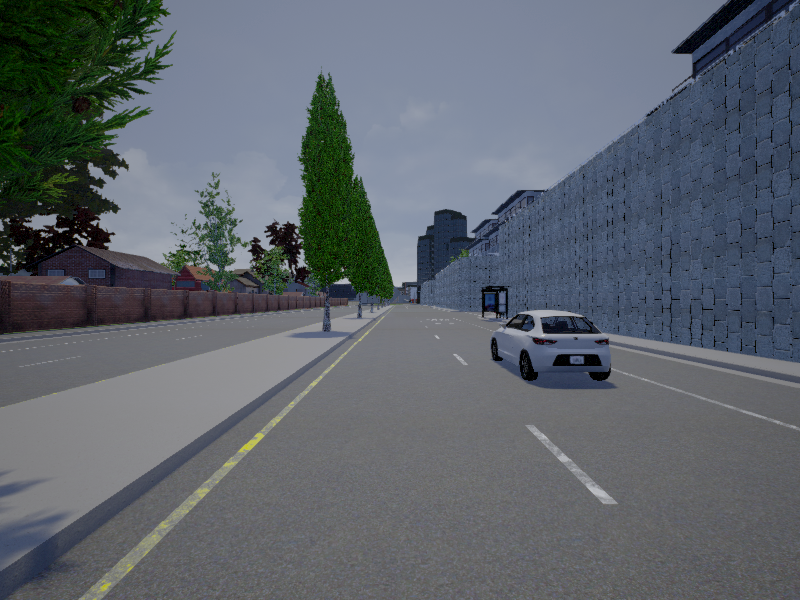Benign: (489, 309, 614, 384)
